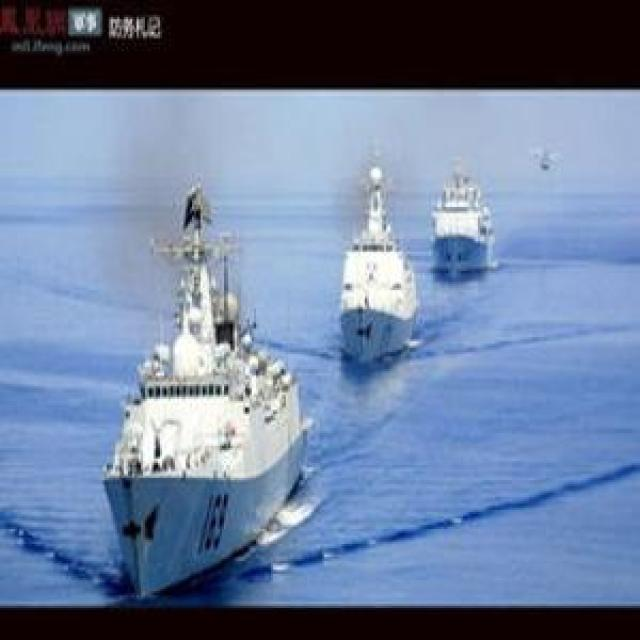navalvessels: (63, 195, 333, 575), (291, 143, 426, 368), (415, 160, 500, 297)
